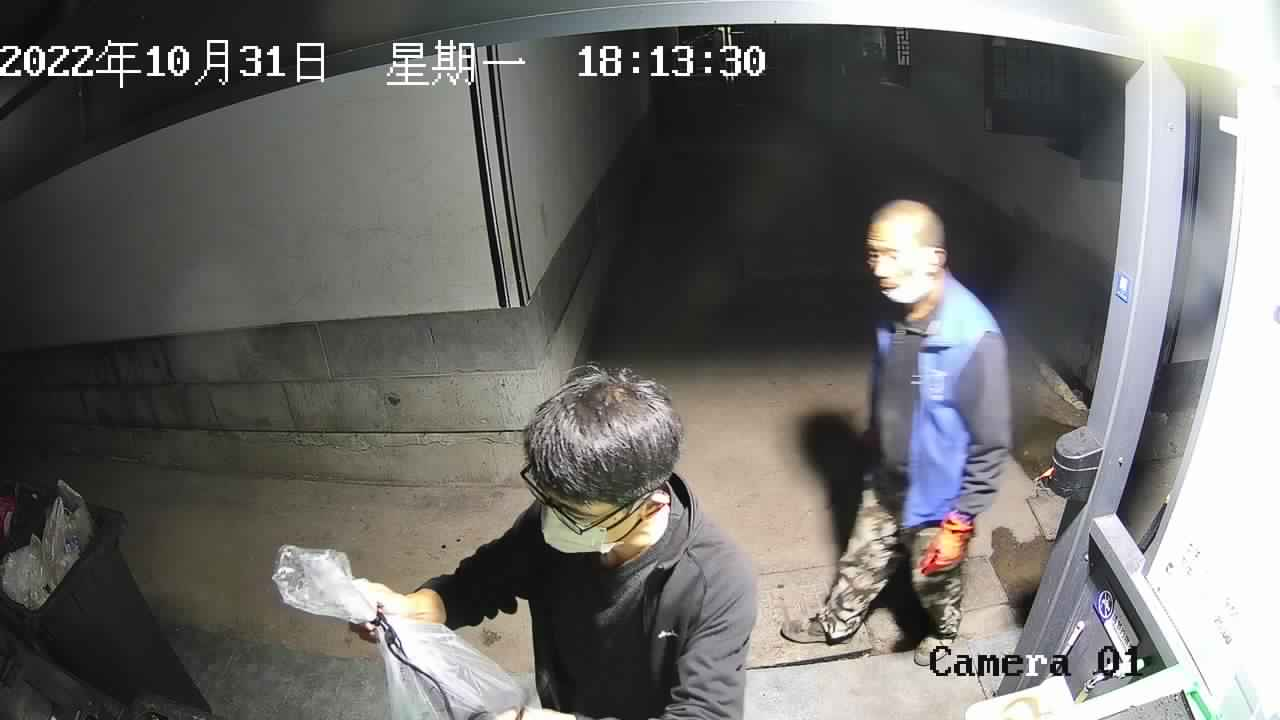garbage-bag: (269, 542, 528, 720)
person: (347, 364, 760, 720)
worker: (778, 196, 1014, 668)
